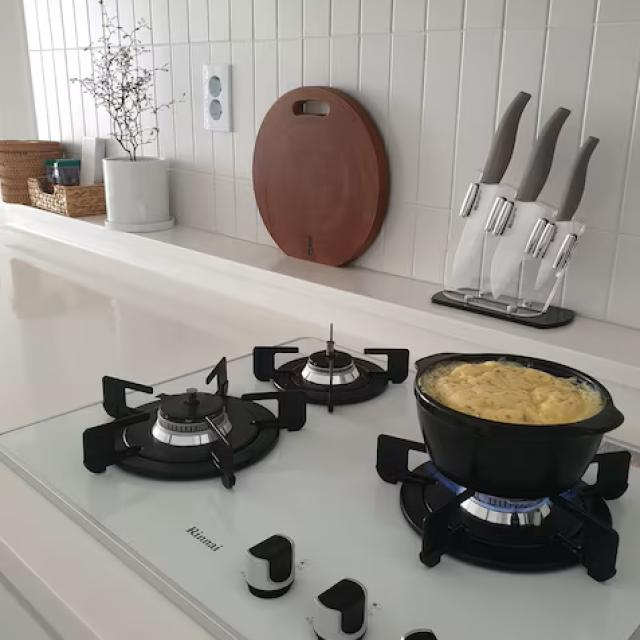knob_OFF: (89, 367, 325, 505), (254, 324, 418, 424)
knob_ON: (375, 412, 625, 605)
